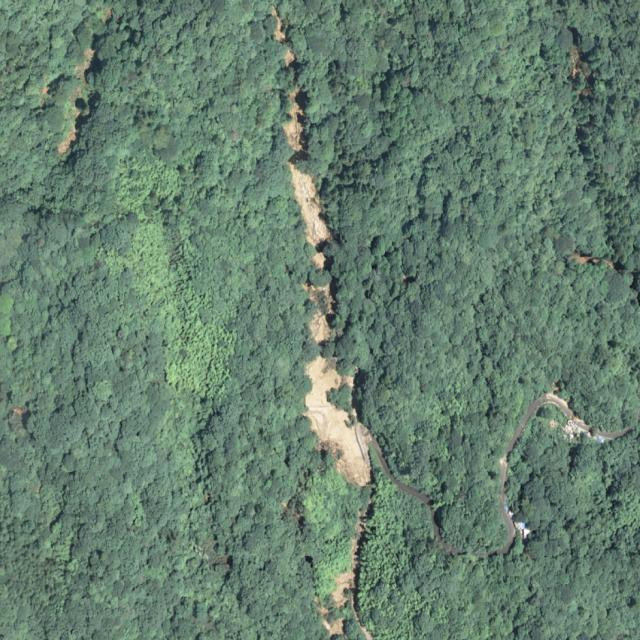landslide: (284, 86, 332, 271), (305, 356, 371, 487), (304, 276, 334, 344), (272, 6, 296, 66), (333, 565, 354, 611), (321, 608, 344, 637)
